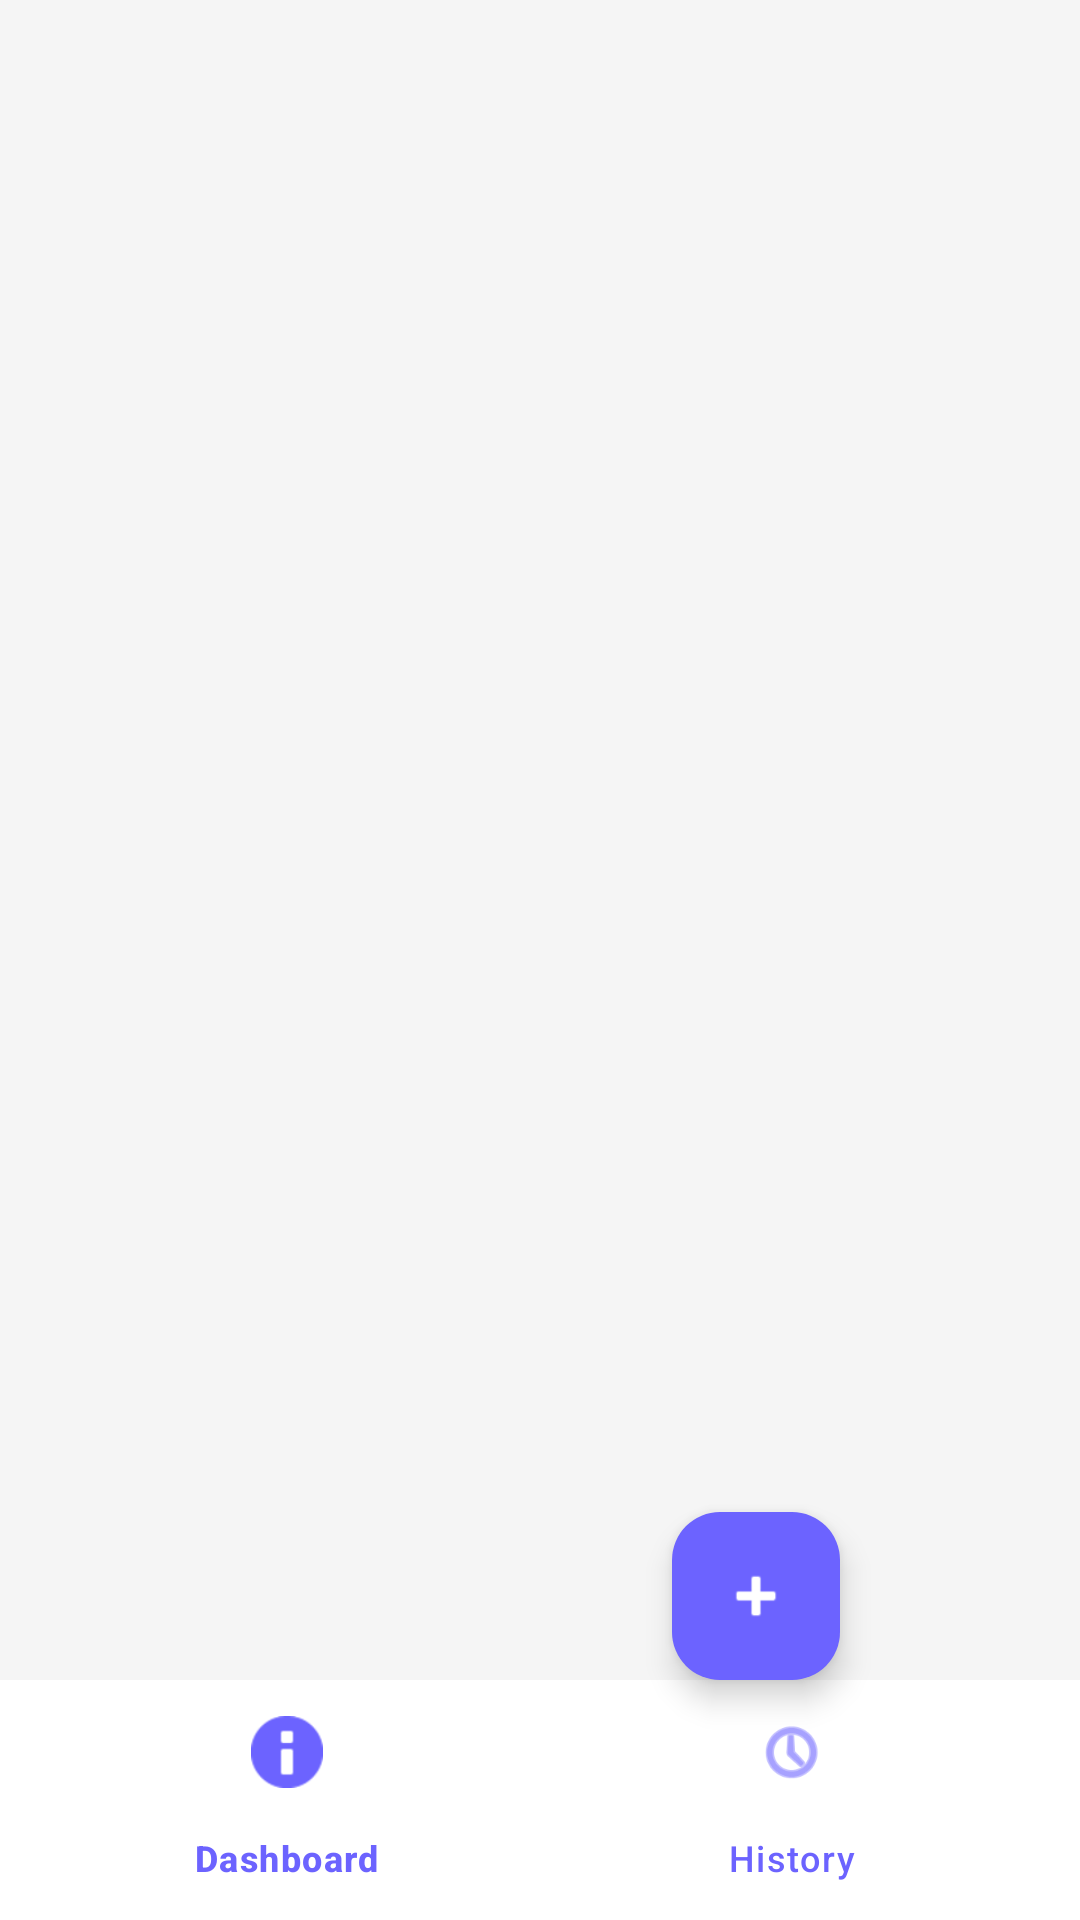

Icon bounding boxes for this 1080 x 1920 phone screenshot, format (x1, y1, x2, y2):
Add Transaction: (672, 1512, 840, 1680)
